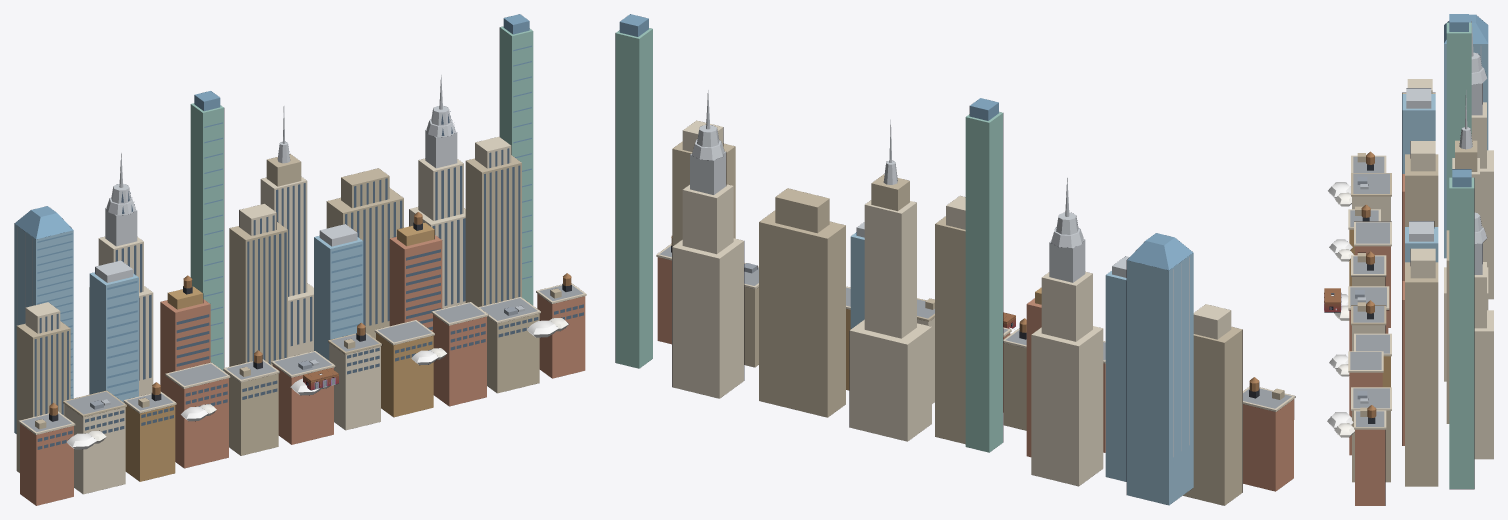
File: fps-kit-office.glb
3 views of the same model, side by side, from view 1: azimuth 30°, elevation 25°; view 2: azimuth 150°, elevation 25°; view 3: azimuth 270°, elevation 25° (orthographic). The views are drawn at different scales.
Parts seen in each view (by area): view 1: KIT_OFFICE_Backdrop_Skyline; view 2: KIT_OFFICE_Backdrop_Skyline; view 3: KIT_OFFICE_Backdrop_Skyline, KIT_OFFICE_Landmark_Elevators.
Part boxes in pixels (box(x1,y1,x2,y2)): KIT_OFFICE_Backdrop_Skyline: box(14, 14, 586, 505); KIT_OFFICE_Backdrop_Skyline: box(615, 14, 1295, 505); KIT_OFFICE_Backdrop_Skyline: box(1327, 14, 1493, 505); KIT_OFFICE_Landmark_Elevators: box(1324, 288, 1341, 312).
Bounding box in the file's own units: 235 × 129 × 61.11.
Materials: 1 (1 with a texture image).
